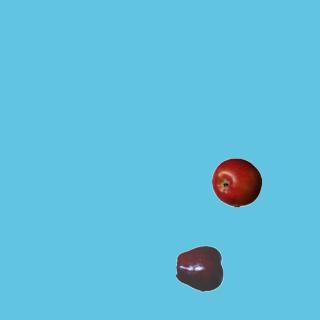Apple Braeburn: (211, 157, 261, 207)
Apple Red Delicious: (175, 243, 225, 293)
